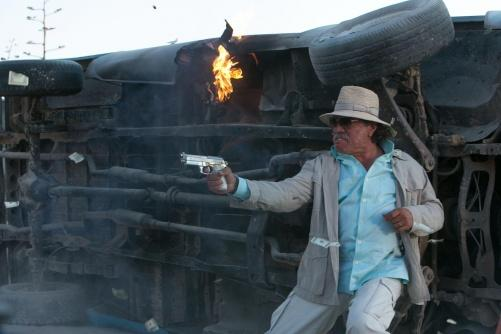Gun: (180, 151, 229, 193)
